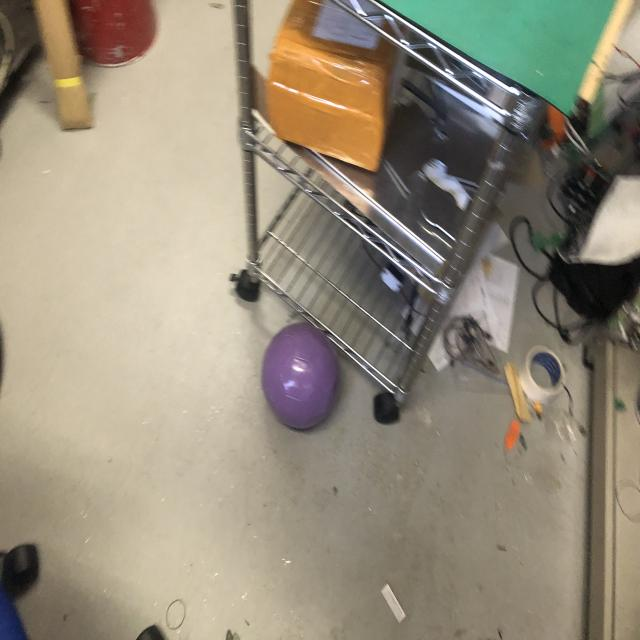purple_ball: (261, 320, 339, 432)
